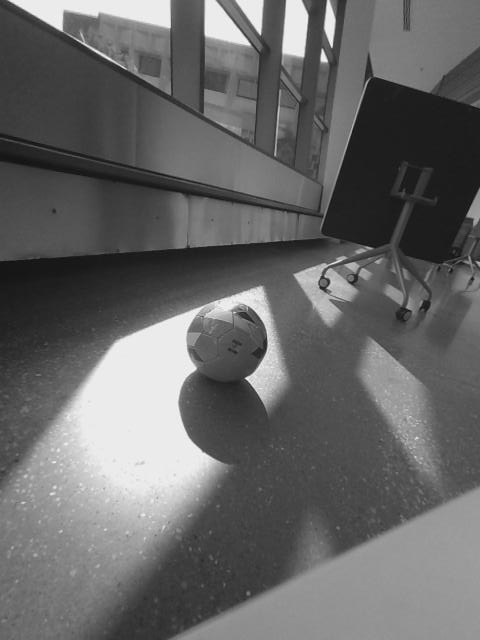ball: (181, 297, 268, 387)
